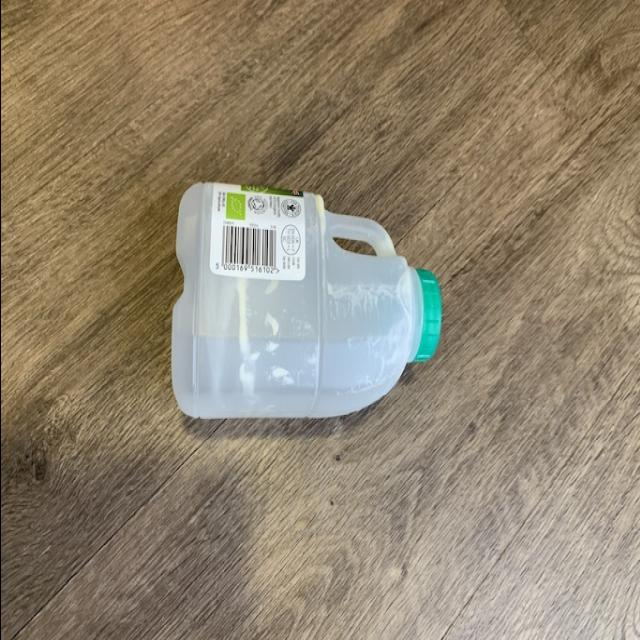litter: (162, 172, 446, 426)
